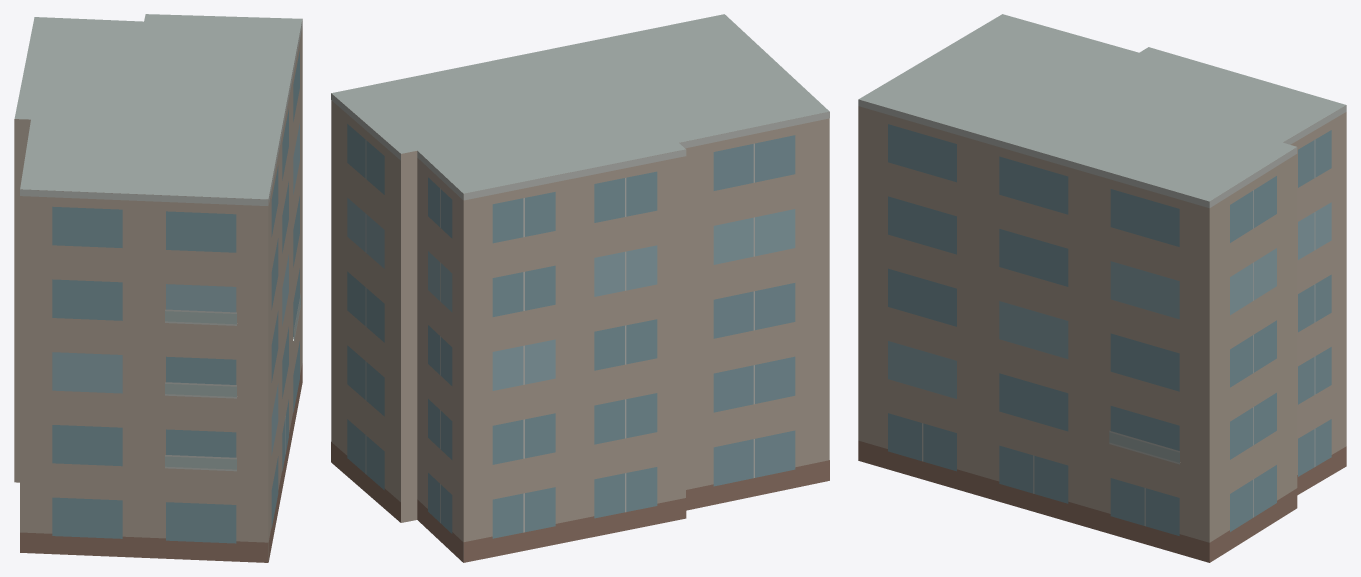
File: survey-upis-32511040.glb
The picture shows the model from 3 angles, left to right: view 1: azimuth 30°, elevation 25°; view 2: azimuth 150°, elevation 25°; view 3: azimuth 270°, elevation 25°; orthographic projection. The views are drawn at different scales.
Parts seen in each view (by area): view 1: survey-upis-32511040.tmp; view 2: survey-upis-32511040.tmp; view 3: survey-upis-32511040.tmp.
Boxes of the visible parts, <box> form: survey-upis-32511040.tmp: <box>14,14,302,562</box>; survey-upis-32511040.tmp: <box>331,14,829,562</box>; survey-upis-32511040.tmp: <box>858,14,1346,562</box>.
Bounding box in the file's own units: 14.7 × 13.2 × 16.17.
